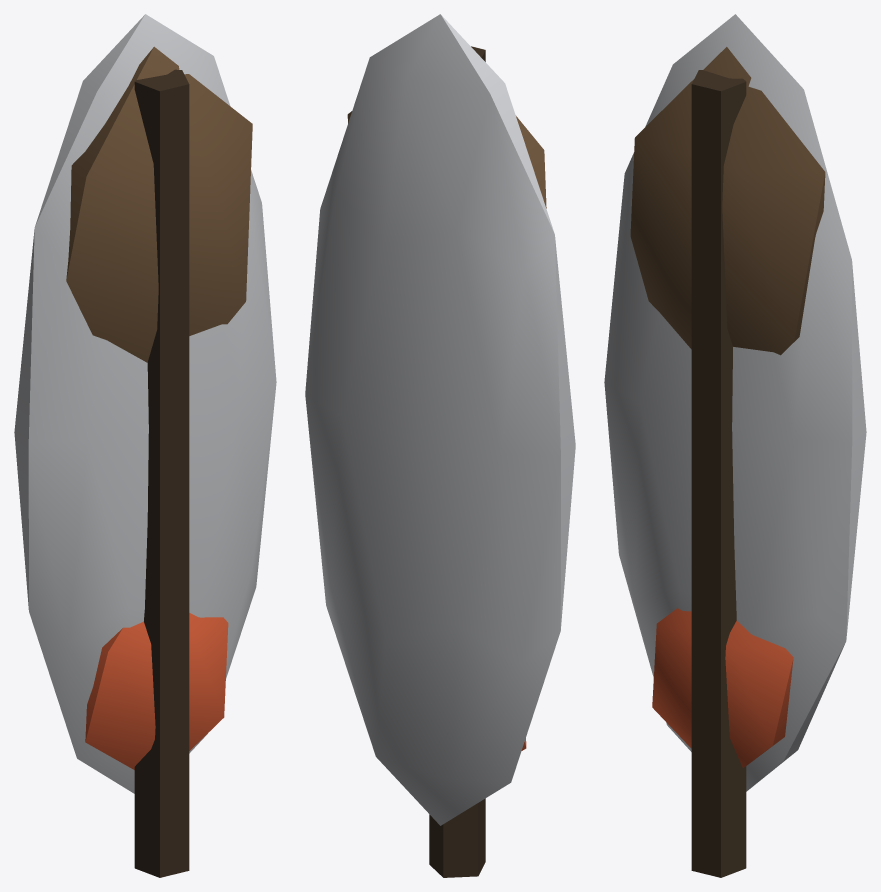
File: gear_jaeger_charm.glb
3 views of the same model, side by side, from view 1: azimuth 30°, elevation 25°; view 2: azimuth 150°, elevation 25°; view 3: azimuth 330°, elevation 25° (orthographic). The views are drawn at different scales.
Parts seen in each view (by area): view 1: body; view 2: body; view 3: body.
Boxes of the visible parts, x1=… form: body: x1=14, y1=14, x2=276, y2=877; body: x1=305, y1=14, x2=575, y2=877; body: x1=604, y1=14, x2=866, y2=877.
Size of the model in its own units: 0.0495 by 0.16 by 0.018.
